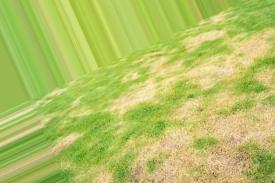patch: (143, 146, 229, 174), (207, 118, 266, 142), (125, 83, 165, 108), (181, 63, 227, 82), (159, 126, 191, 146)
